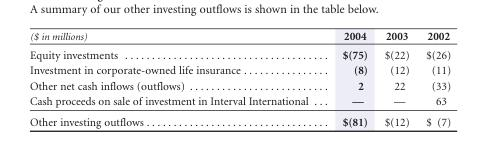table: (28, 29, 450, 127)
table column: (28, 29, 324, 127), (324, 29, 375, 127), (375, 29, 417, 127), (417, 29, 450, 127)
table column header: (28, 29, 450, 45)
table row: (28, 45, 450, 62), (28, 93, 450, 110), (28, 110, 450, 127), (28, 29, 450, 45), (28, 77, 450, 93), (28, 62, 450, 77)
